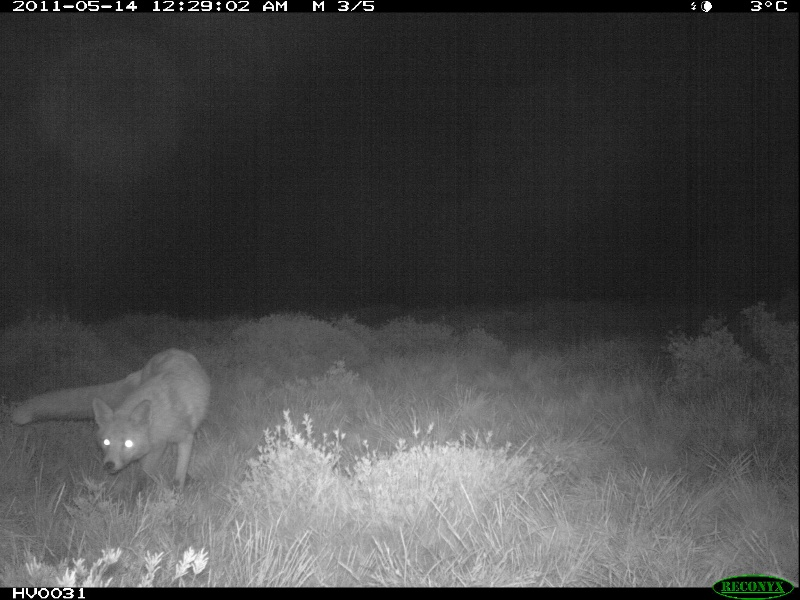fox: (7, 348, 221, 498)
